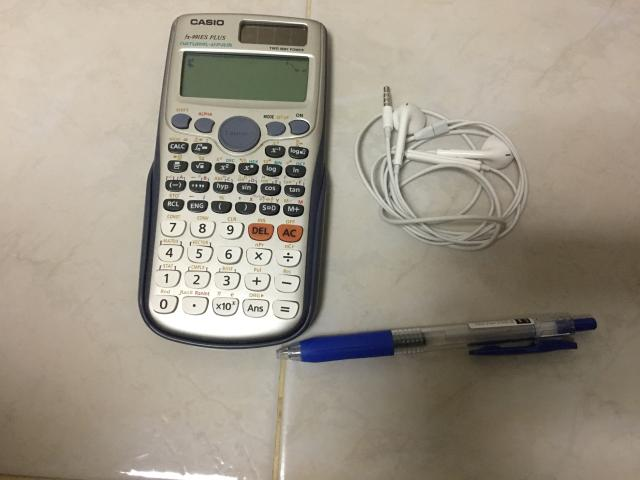Pen: (278, 316, 596, 362)
wire: (354, 88, 528, 250)
